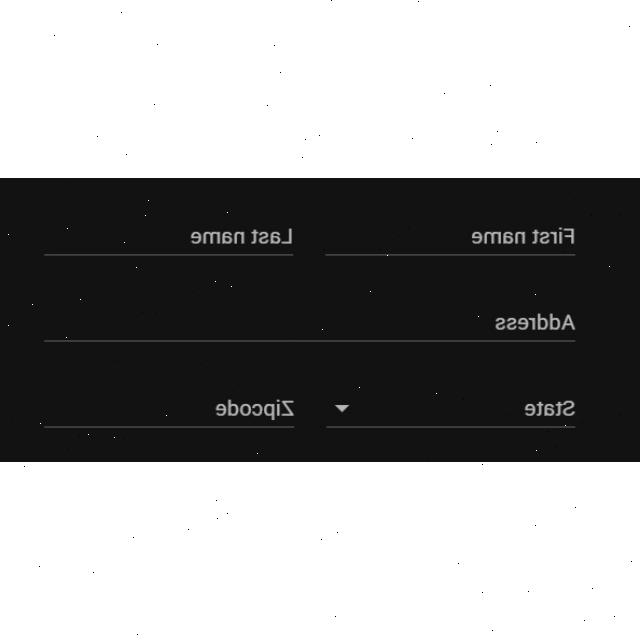VCombobox: (324, 394, 576, 430)
VTextField: (41, 310, 578, 344), (322, 222, 580, 260), (40, 222, 298, 260), (44, 396, 296, 430)
